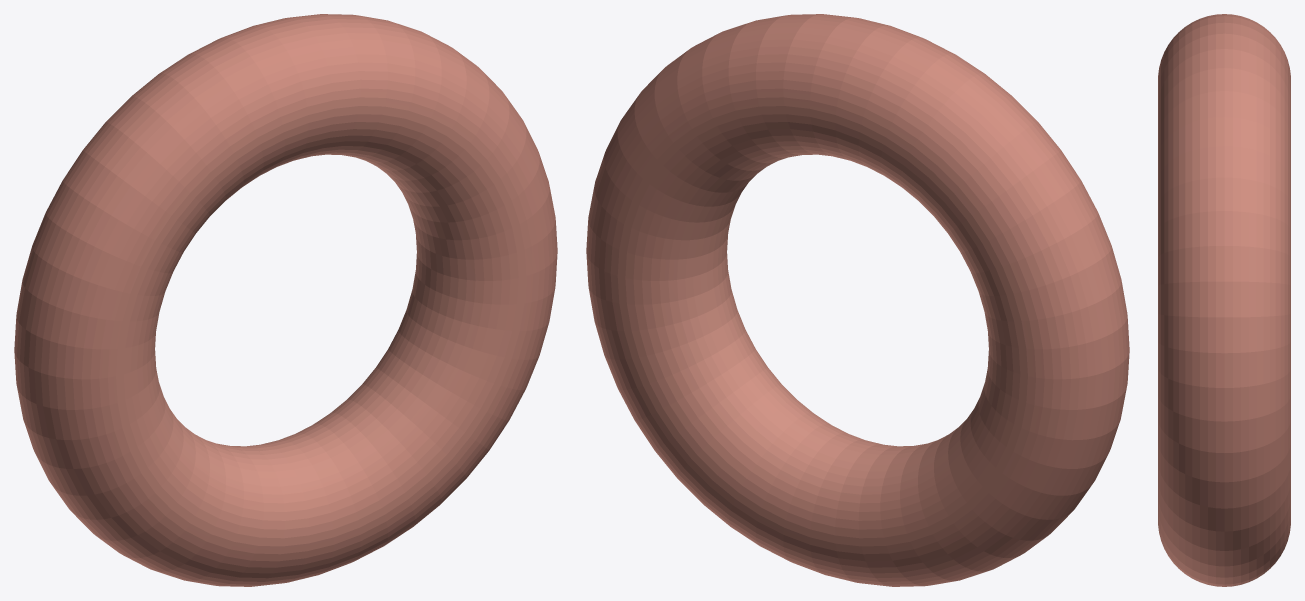
3 views of the same model, side by side, from view 1: azimuth 30°, elevation 25°; view 2: azimuth 150°, elevation 25°; view 3: azimuth 270°, elevation 25° (orthographic). The views are drawn at different scales.
Visible parts, largest first — view 1: world; view 2: world; view 3: world.
Part boxes in pixels (x1,y1,x2,y2): world: (14,14,557,586); world: (586,14,1129,586); world: (1158,14,1290,586).
Bounding box in the file's own units: 30.4 × 30.34 × 7.05.
